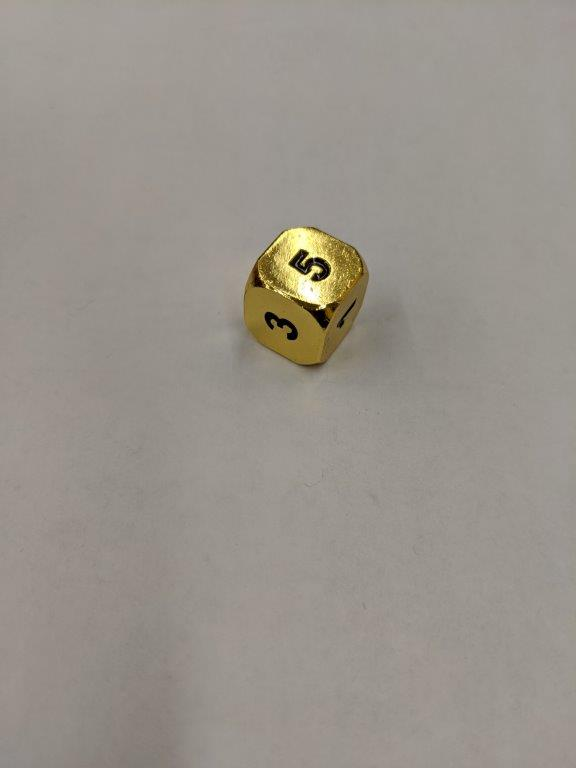d6-5: (241, 224, 371, 371)
